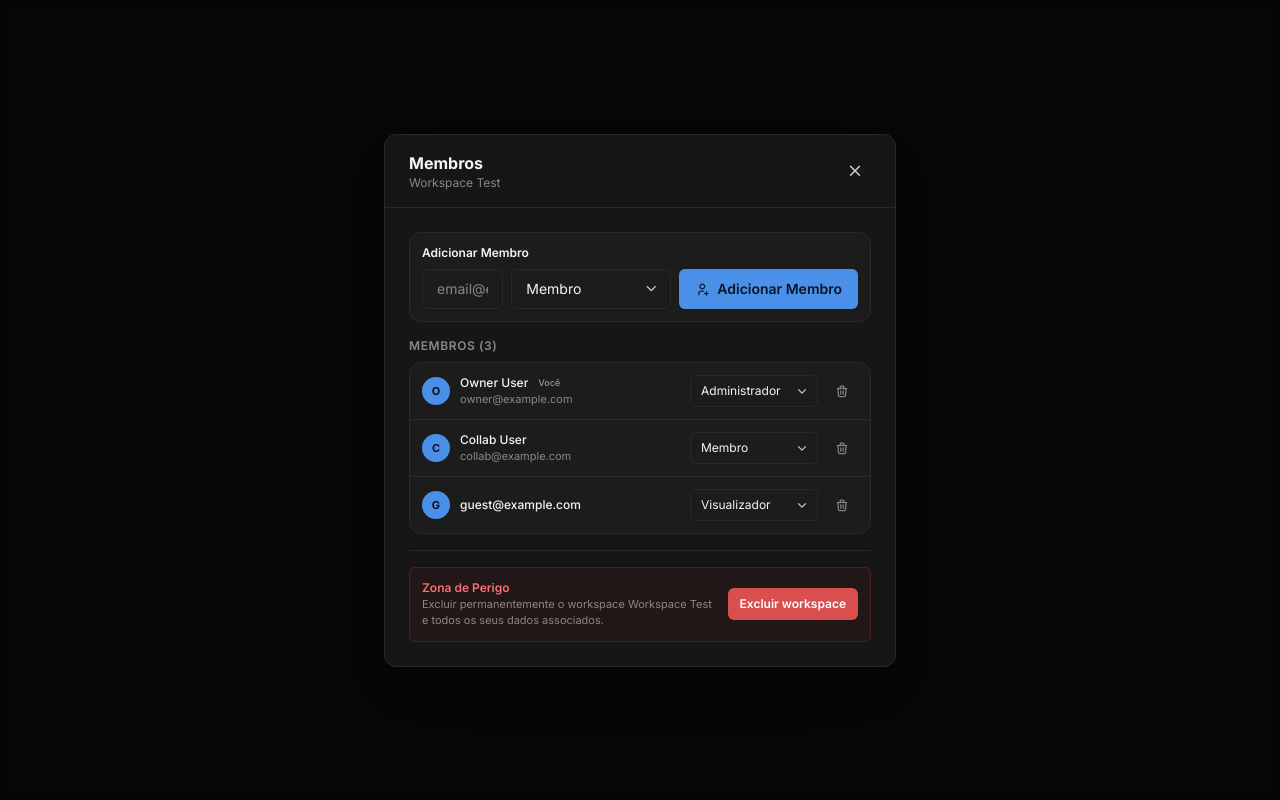
Test: WorkspaceMembersModal › validates empty email and handles invite error
This screenshot has width=1280, height=800.
Expected: the text "Owner User" is shown, [460,374,528,390]
Empty email
Click the button "Adicionar Membro". click: (769, 288)
box: [679,268,858,308]
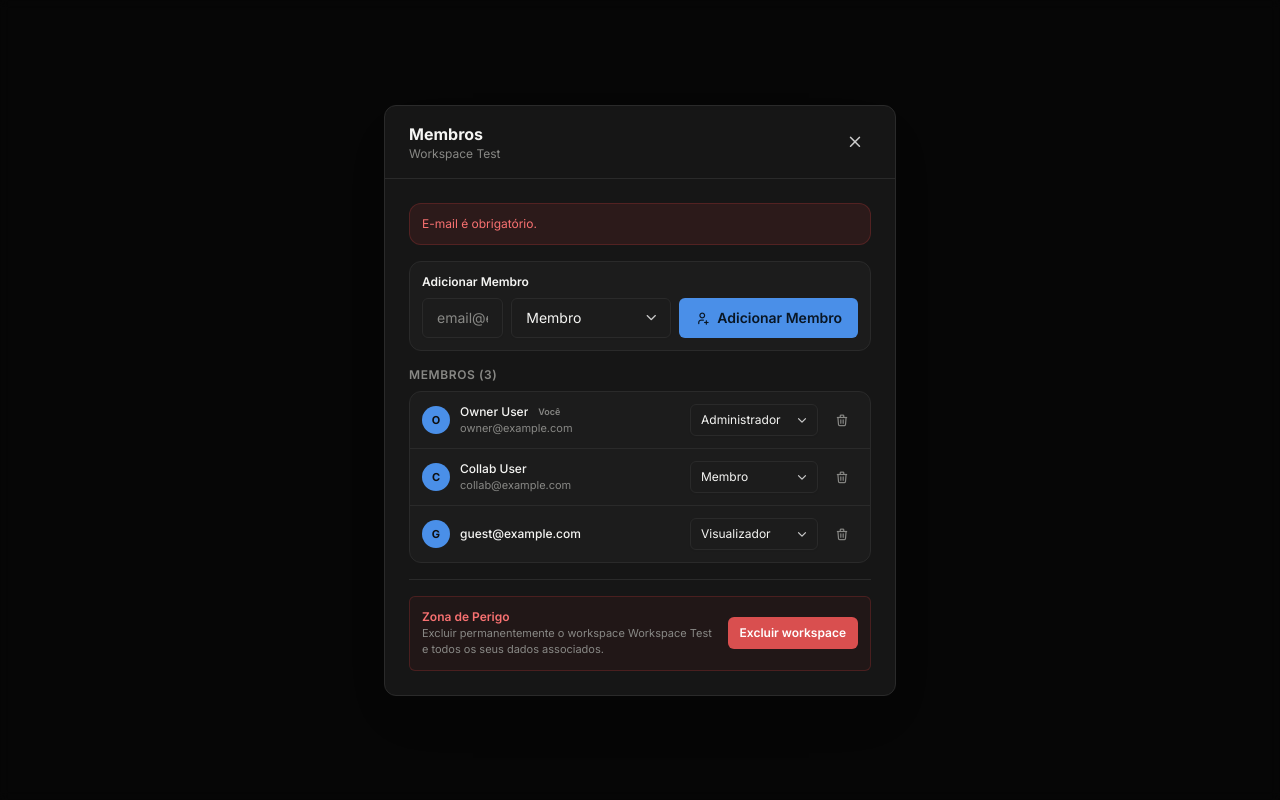
Expected: the text "E-mail é obrigatório." is shown, [409,202,871,244]
Invite error
Type "existing@example.com" into the field with placeholder "email@exemplo.com". click: (463, 318)
box: [422,298,503,338]
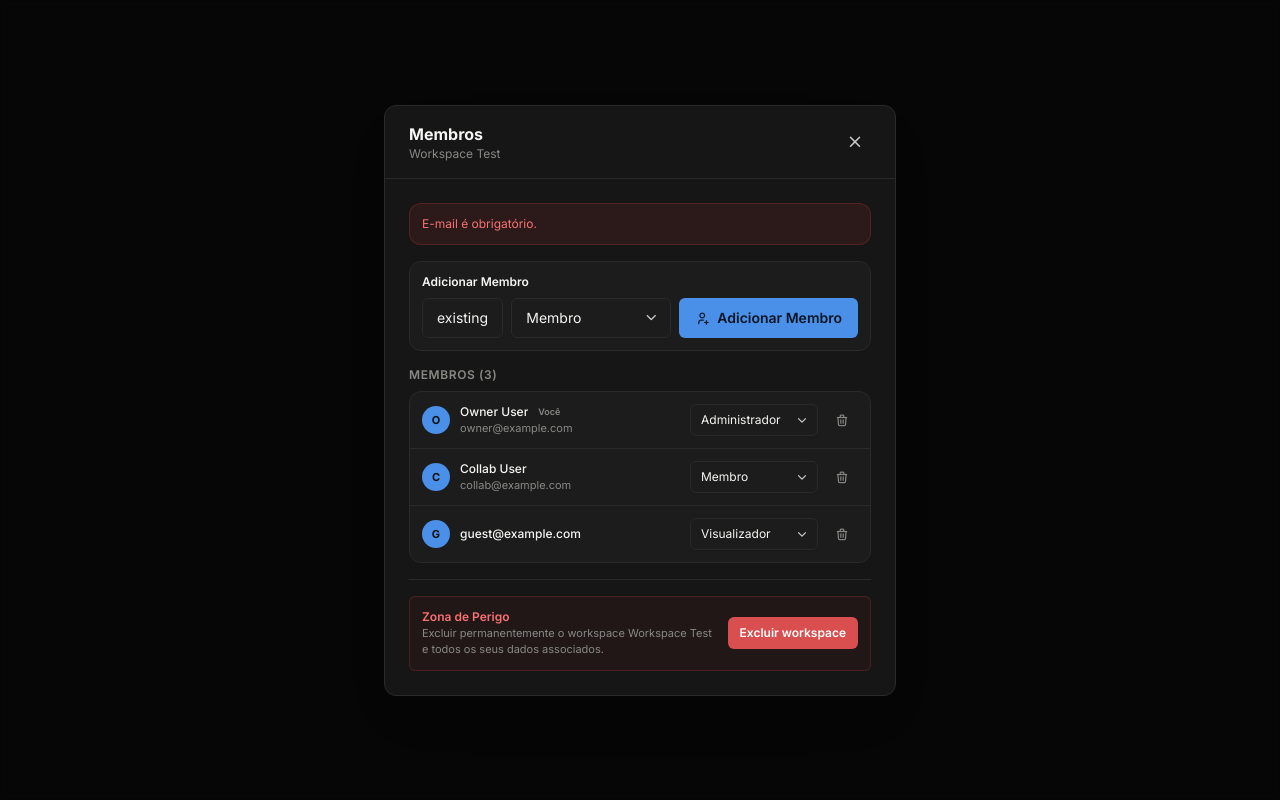
Click the button "Adicionar Membro". click: (769, 318)
box: [679,298,858,338]
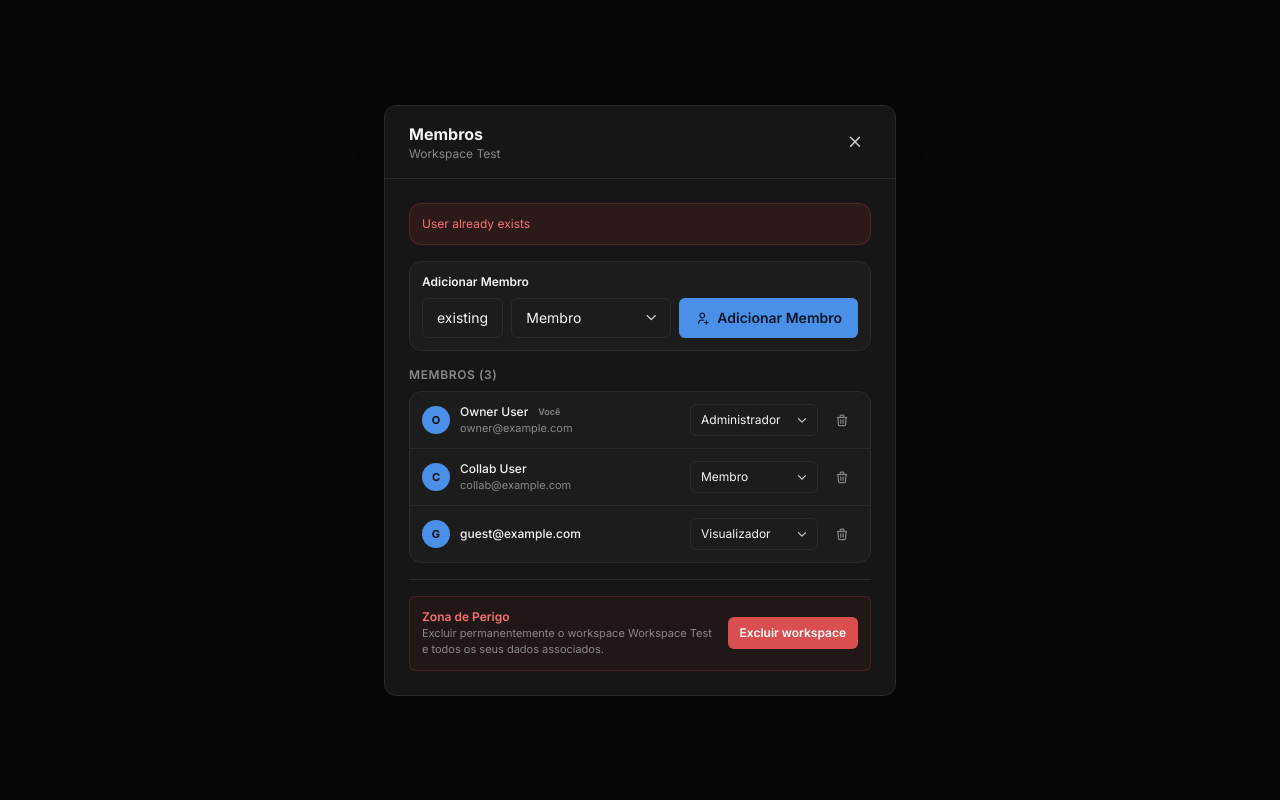
Expected: the text "User already exists" is shown, [409,202,871,244]
